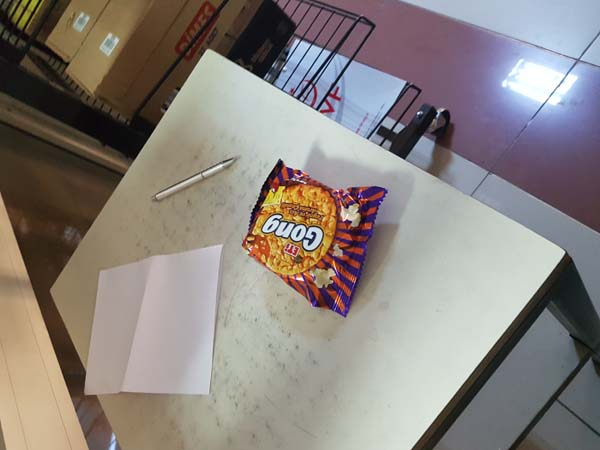etigong: (243, 154, 389, 321)
